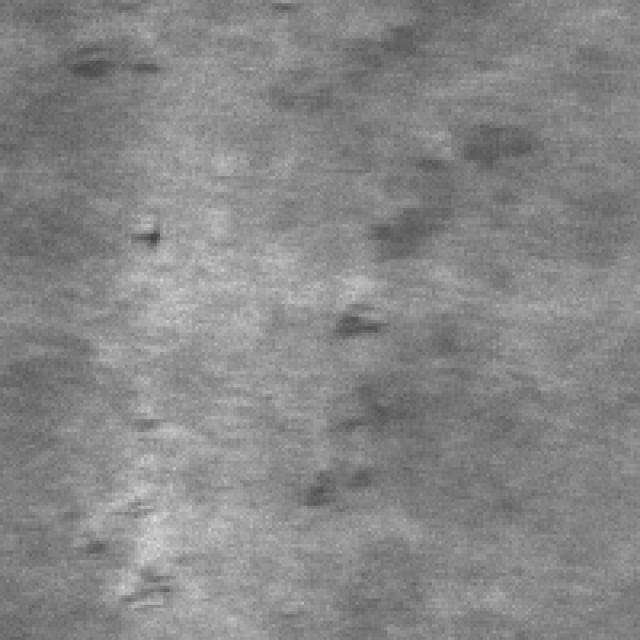rolled-in_scale: (304, 151, 474, 518), (74, 403, 204, 614)
